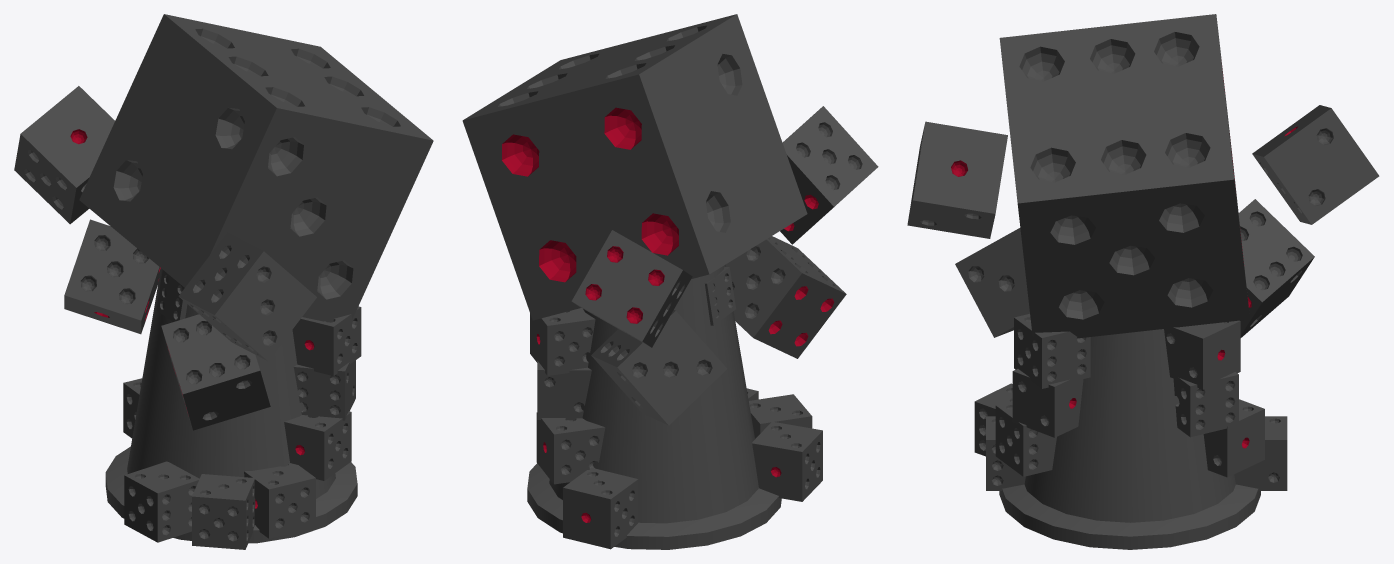
File: monster02.fbx
3 renders of one model, left to right at view 1: azimuth 30°, elevation 25°; view 2: azimuth 150°, elevation 25°; view 3: azimuth 270°, elevation 25°, orthographic. The views are drawn at different scales.
Parts seen in each view (by area): view 1: pCube651; view 2: pCube651; view 3: pCube651.
Part boxes in pixels (x1,y1,x2,y2): pCube651: (14, 14, 433, 549); pCube651: (462, 14, 878, 549); pCube651: (907, 14, 1379, 549).
Bounding box in the file's own units: 4.43 × 6.99 × 6.39.
